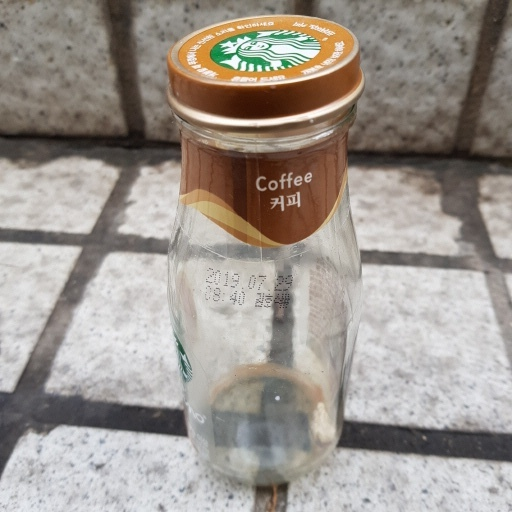Glass_4: (160, 13, 368, 485)
